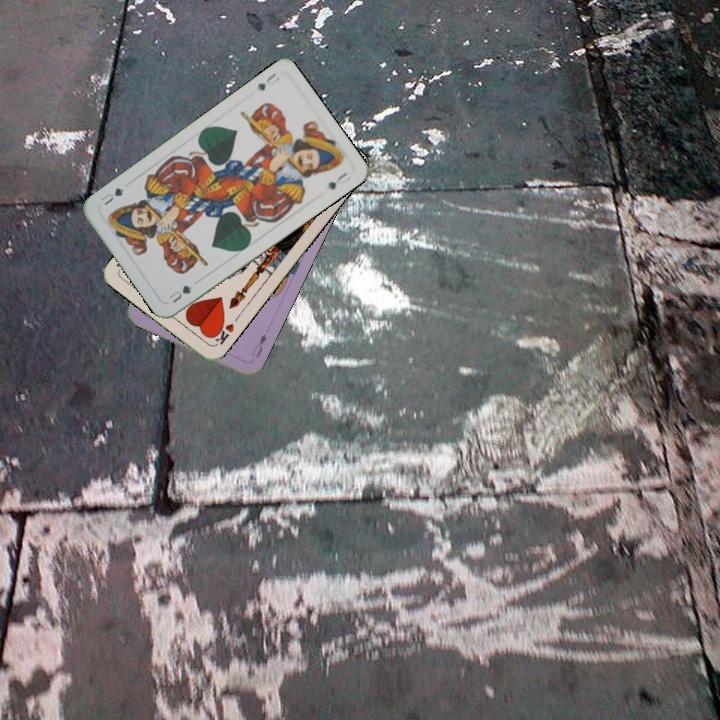EU: (247, 330, 269, 360)
GU: (165, 281, 195, 306), (254, 68, 282, 93)
HK: (208, 318, 237, 348)
